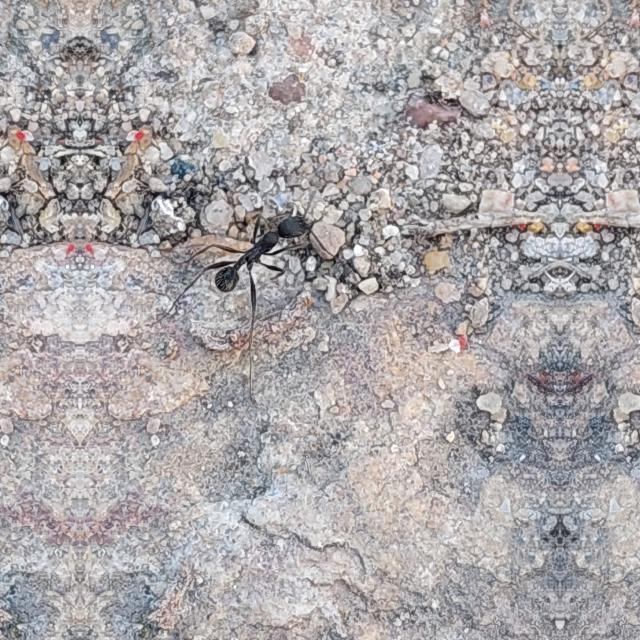Apheanogaster: (193, 189, 327, 325)
